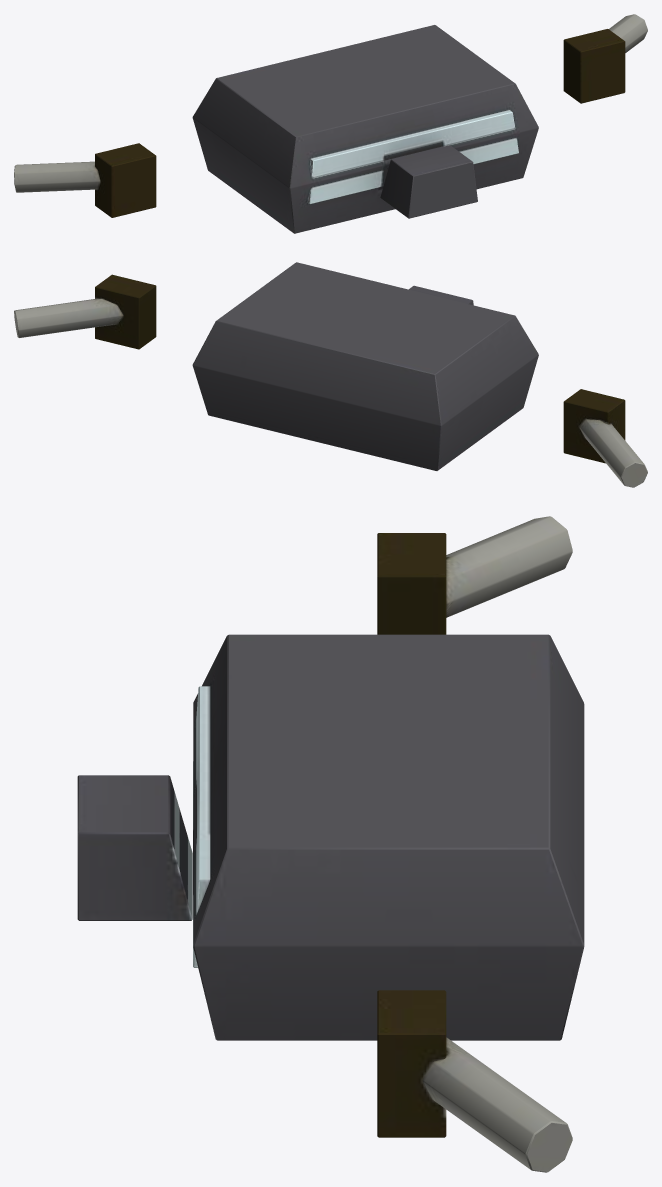
Rendered from IT_diving_mask.glb.
3 renders of one model, top to bottom at view 1: azimuth 30°, elevation 25°; view 2: azimuth 150°, elevation 25°; view 3: azimuth 270°, elevation 25°, orthographic. The views are drawn at different scales.
Parts seen in each view (by area): view 1: IT_diving_mask; view 2: IT_diving_mask; view 3: IT_diving_mask.
Part boxes in pixels (x1,y1,x2,y2): IT_diving_mask: (14, 14, 647, 233); IT_diving_mask: (14, 262, 647, 487); IT_diving_mask: (77, 516, 584, 1172).
Bounding box in the file's own units: 1.27 × 0.18 × 0.4398.
1 material, 1 textured.
